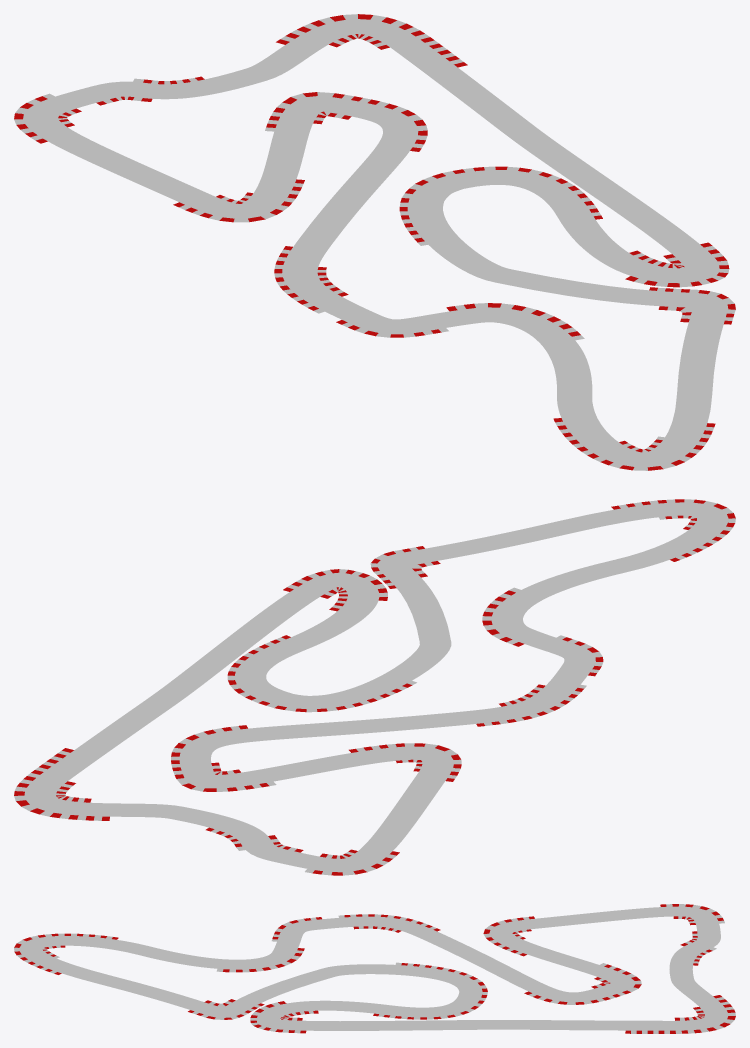
Rendered from pista_1_CIRCUIT.obj.
3 renders of one model, top to bottom at view 1: azimuth 30°, elevation 25°; view 2: azimuth 150°, elevation 25°; view 3: azimuth 270°, elevation 25°, orthographic. The views are drawn at different scales.
Parts seen in each view (by area): view 1: circuito; view 2: circuito; view 3: circuito.
Boxes of the visible parts, x1=… form: circuito: x1=14, y1=14, x2=735, y2=470; circuito: x1=14, y1=499, x2=735, y2=875; circuito: x1=14, y1=904, x2=735, y2=1033.
Bounding box in the file's own units: 367 × 6e-06 × 863.
